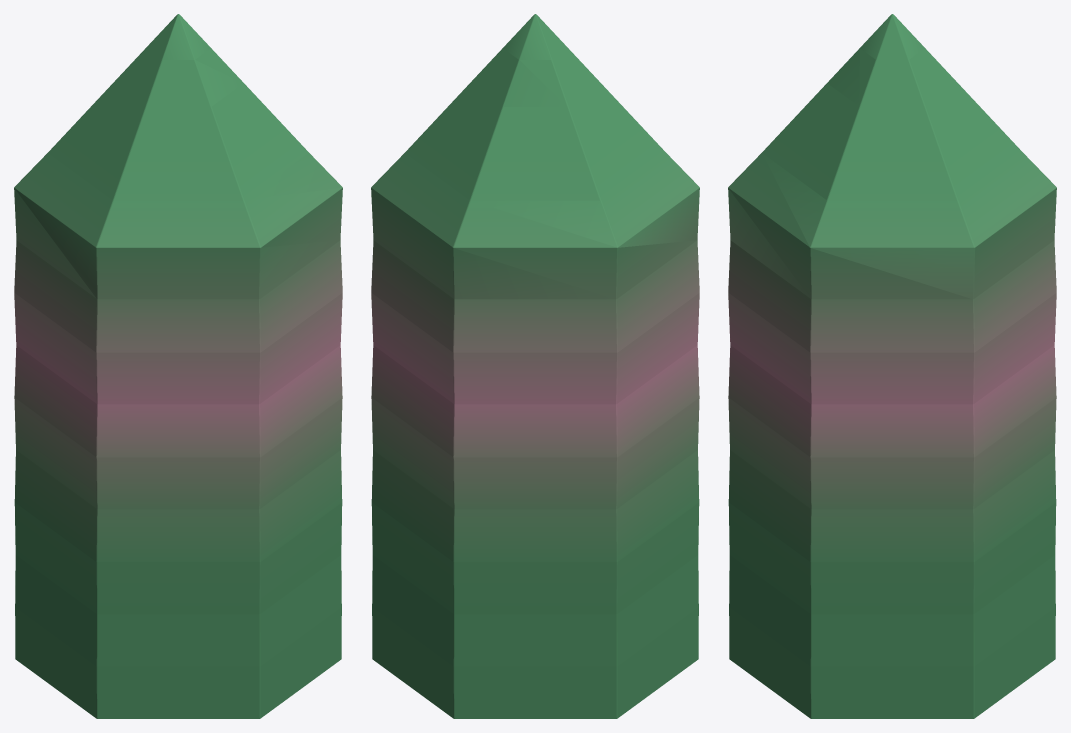
File: tourmaline.glb
The picture shows the model from 3 angles, left to right: view 1: azimuth 30°, elevation 25°; view 2: azimuth 150°, elevation 25°; view 3: azimuth 270°, elevation 25°; orthographic projection.
Visible parts, largest first — view 1: tourmaline.001; view 2: tourmaline.001; view 3: tourmaline.001.
Part boxes in pixels (<box>): tourmaline.001: <box>14,14,342,718</box>; tourmaline.001: <box>371,14,699,718</box>; tourmaline.001: <box>728,14,1056,718</box>.
Size of the model in its own units: 0.9998 by 2.5 by 1.15.
